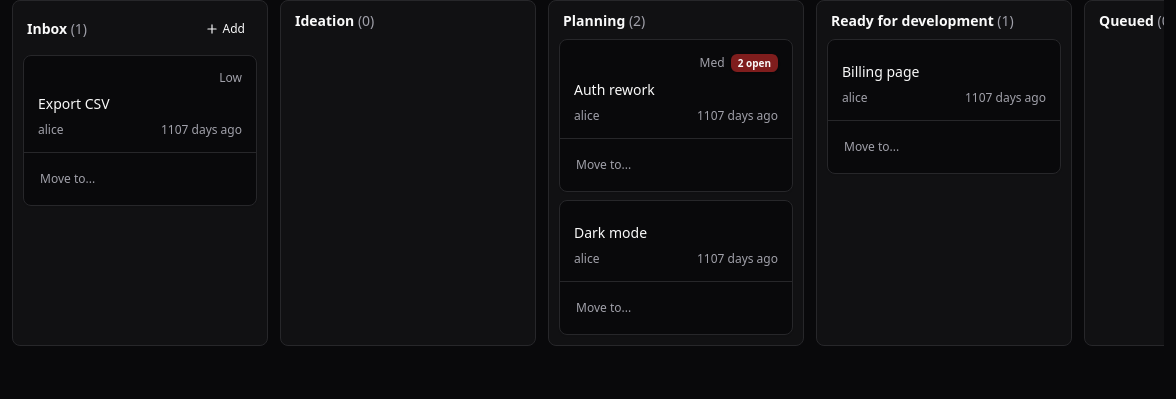
Test: KanbanBoard keyboard menu › announces a successful move in the live region
Click the 2nd button "Move to..." at (676, 165), box [568,143,784,187]
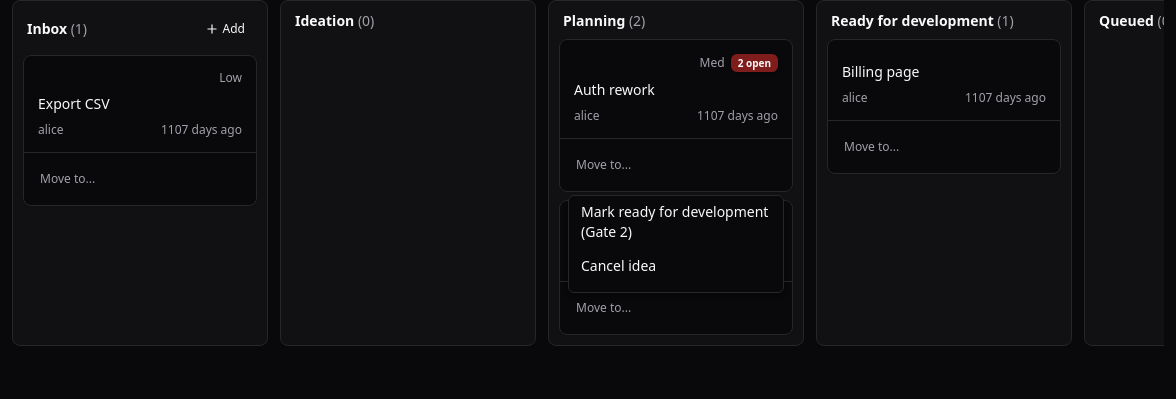
Click the menu item "Mark ready for development (Gate 2)" at (676, 222), box [573,200,779,244]
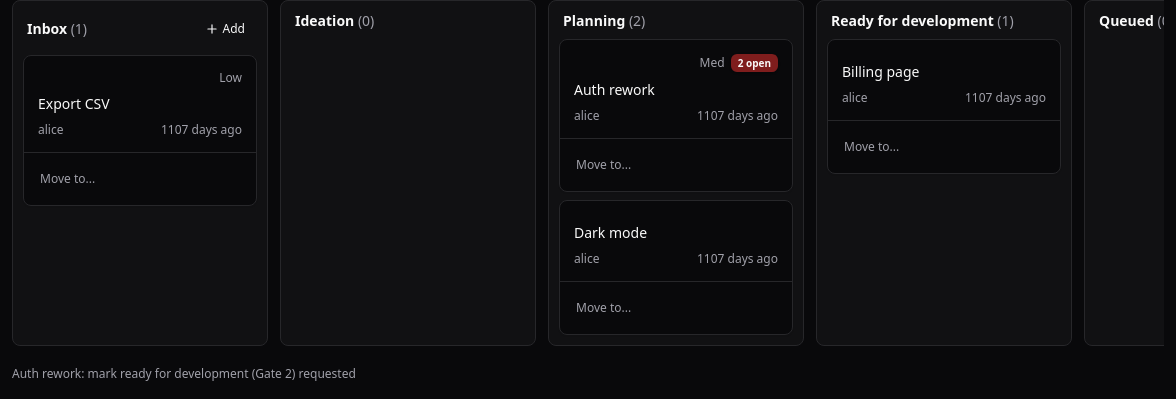
Now the text "Auth rework: mark ready for development (Gate 2) requested" is shown, box [12,365,356,382]
